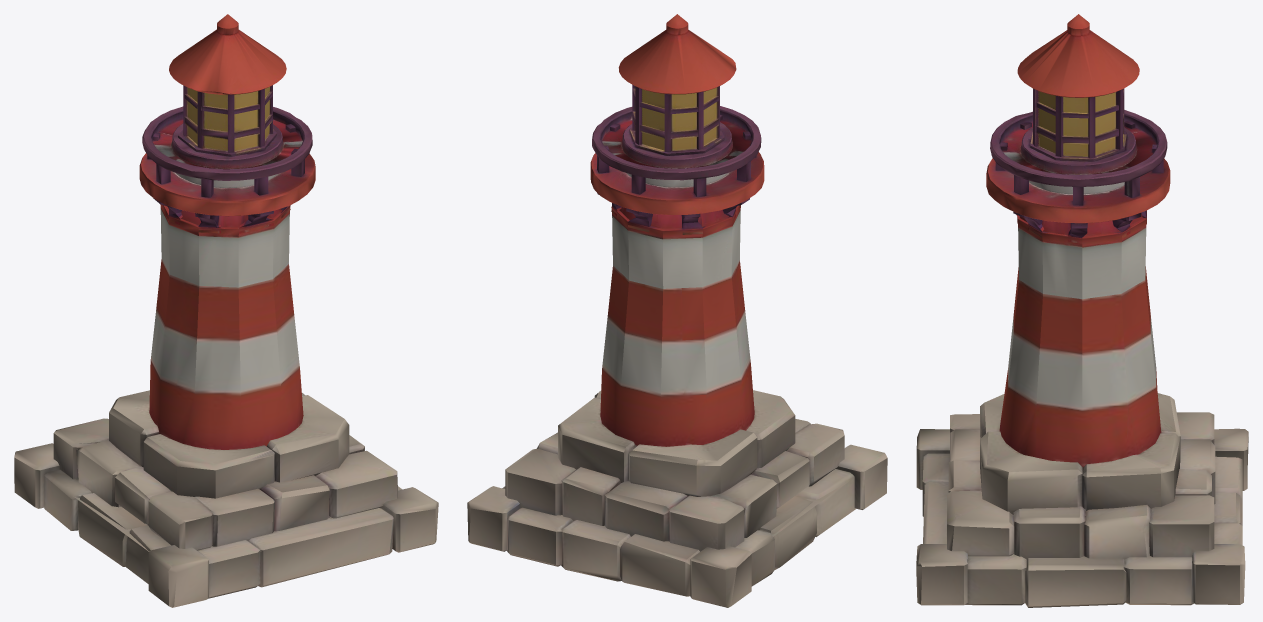
The model's file is asset.glb.
3 views of the same model, side by side, from view 1: azimuth 30°, elevation 25°; view 2: azimuth 150°, elevation 25°; view 3: azimuth 270°, elevation 25° (orthographic). The views are drawn at different scales.
Parts seen in each view (by area): view 1: tripo_node_39764e95-3312-4c12-a49d-d29f856ad957; view 2: tripo_node_39764e95-3312-4c12-a49d-d29f856ad957; view 3: tripo_node_39764e95-3312-4c12-a49d-d29f856ad957.
Boxes of the visible parts, x1=… form: tripo_node_39764e95-3312-4c12-a49d-d29f856ad957: x1=14, y1=14, x2=438, y2=607; tripo_node_39764e95-3312-4c12-a49d-d29f856ad957: x1=467, y1=14, x2=887, y2=607; tripo_node_39764e95-3312-4c12-a49d-d29f856ad957: x1=916, y1=14, x2=1248, y2=607.
Bounding box in the file's own units: 32.27 × 58 × 32.9.
Materials: 1 (1 with a texture image).
